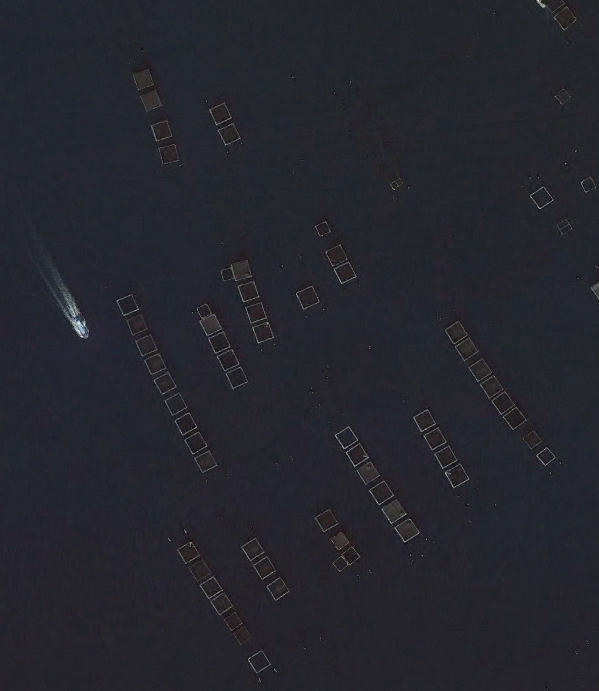ship: (58, 297, 96, 342)
square: (166, 535, 207, 567), (200, 96, 237, 131), (387, 512, 425, 546), (141, 111, 177, 146), (476, 372, 510, 408), (527, 438, 561, 473), (125, 65, 164, 95), (227, 253, 261, 287), (235, 530, 270, 563), (259, 569, 292, 604), (372, 494, 408, 526), (439, 458, 473, 491), (462, 351, 497, 383), (140, 347, 173, 380), (437, 315, 471, 347), (216, 121, 249, 153), (185, 555, 216, 589), (187, 446, 223, 475), (309, 502, 341, 534), (408, 406, 440, 438), (242, 646, 276, 676), (362, 475, 396, 505), (351, 457, 386, 486), (111, 288, 143, 319), (193, 308, 224, 340), (116, 308, 150, 337), (175, 427, 209, 456), (159, 391, 191, 421), (201, 587, 234, 616), (249, 316, 281, 345), (294, 278, 322, 311), (321, 238, 349, 271), (451, 335, 484, 363), (129, 333, 163, 360), (156, 137, 186, 167), (241, 296, 271, 326), (206, 331, 239, 358), (234, 275, 263, 305), (194, 572, 225, 600), (429, 440, 460, 468), (137, 83, 164, 115), (526, 184, 558, 211), (224, 621, 256, 648), (334, 423, 363, 452), (321, 521, 349, 551), (341, 440, 373, 466), (499, 400, 528, 428), (514, 424, 543, 452), (423, 425, 451, 453), (547, 2, 578, 27), (213, 346, 241, 373), (331, 261, 360, 287), (151, 371, 178, 398), (249, 553, 277, 579), (215, 603, 243, 628), (171, 414, 198, 438), (224, 368, 250, 391), (490, 391, 516, 414)
